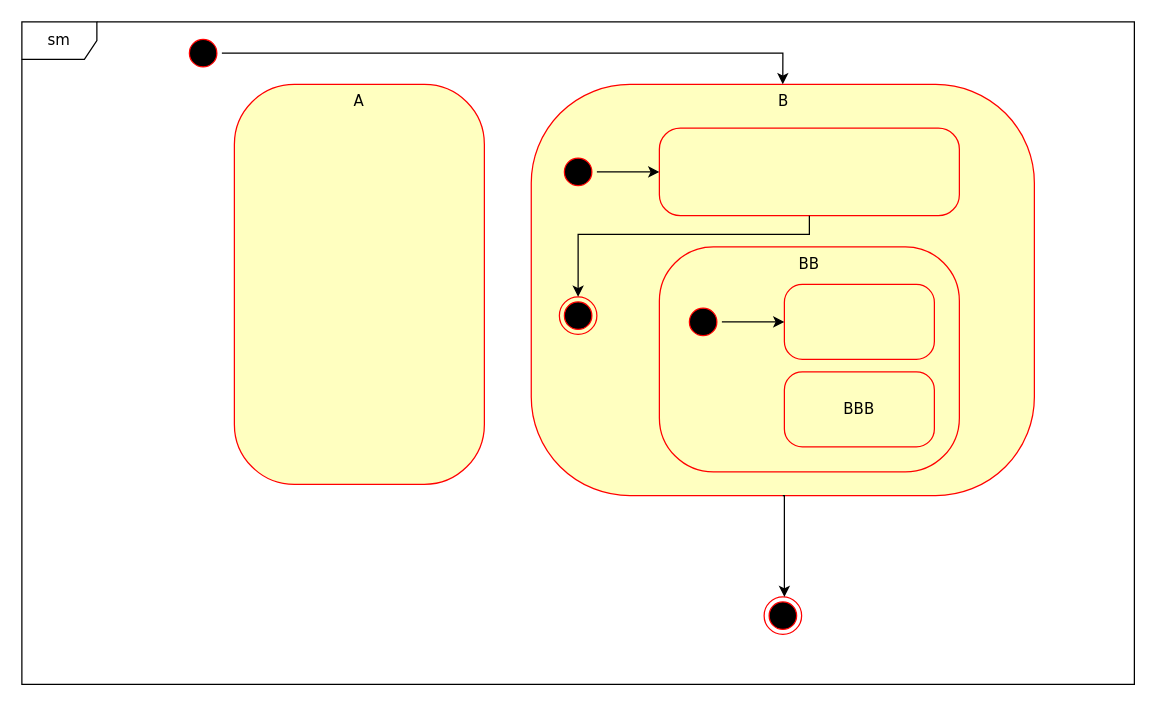
Image size: 1156x706. Some labels were removed from this diagram. The shapes that lost their labels are listed below. From the top down, each one's centre as x and y in pixels, then its label:
At point (808, 171): "BA".
At point (858, 321): "BBA".
